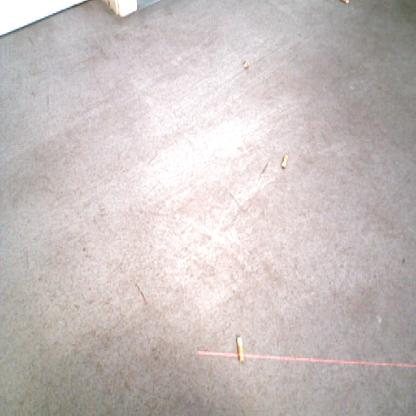dirty: (237, 336, 245, 363), (280, 153, 289, 170), (242, 61, 249, 69), (340, 1, 350, 5)
mark: (134, 282, 148, 306), (259, 160, 270, 176), (26, 36, 36, 48), (46, 93, 50, 112), (81, 245, 87, 254), (401, 256, 406, 265), (30, 90, 36, 97)
